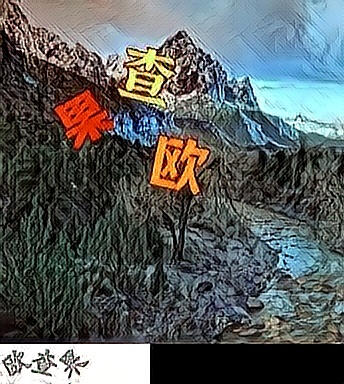B2E9: (118, 43, 183, 107)
B9FB: (48, 89, 113, 153)
C5B7: (144, 130, 209, 194)
